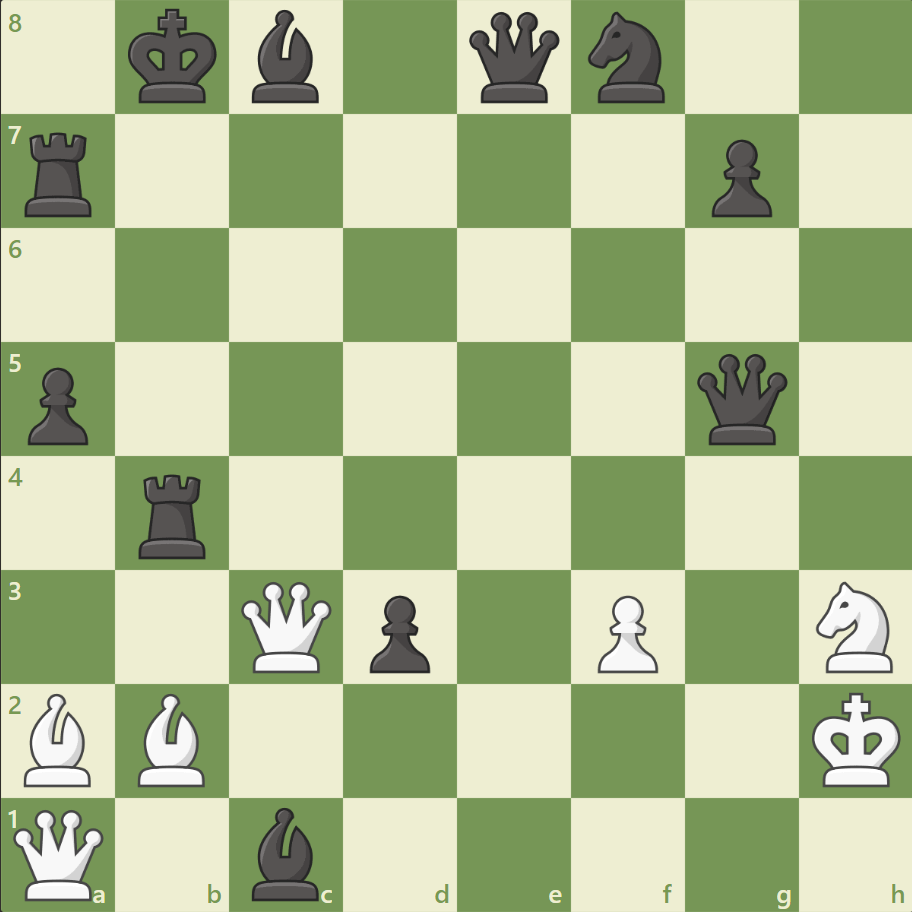B: (17, 687, 101, 790), (131, 687, 215, 790)
K: (806, 685, 906, 793)
N: (806, 575, 903, 677)
P: (588, 586, 662, 677)
Q: (237, 576, 336, 676), (10, 804, 109, 903)
b: (244, 6, 328, 109), (244, 801, 328, 904)
k: (124, 4, 224, 112)
n: (579, 7, 676, 110)
p: (701, 132, 776, 223), (20, 359, 95, 450), (361, 586, 435, 677)
q: (691, 349, 790, 449), (464, 9, 563, 108)
r: (19, 125, 102, 222), (133, 466, 215, 563)
